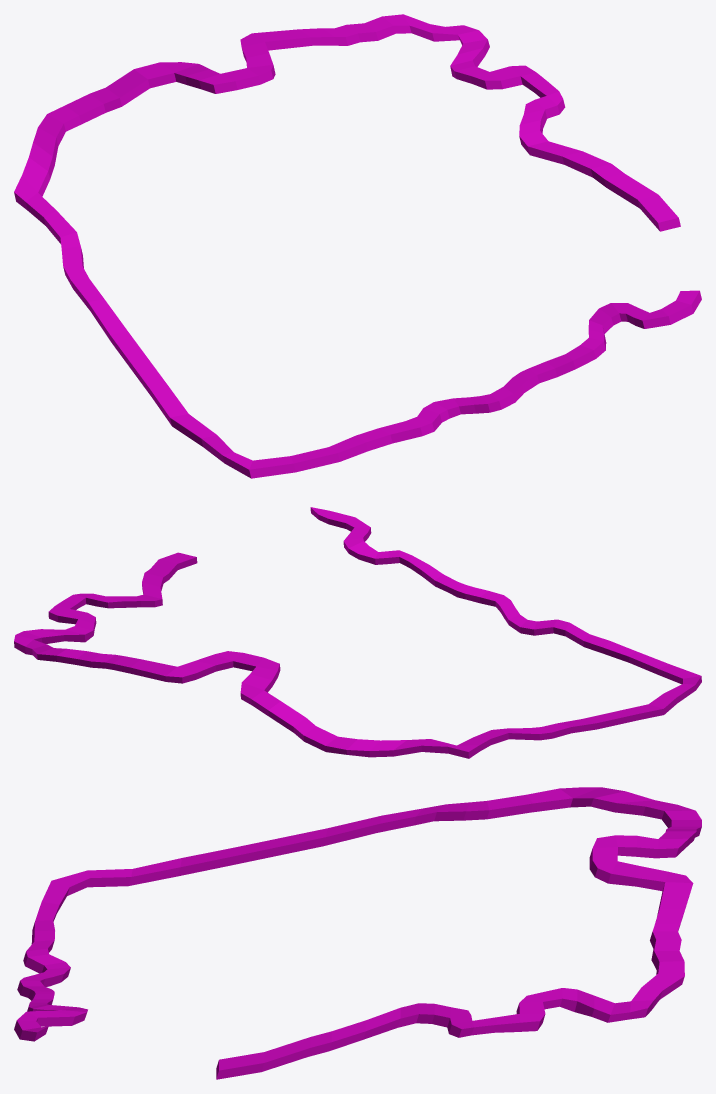
The model's file is roadtest.fbx.
3 views of the same model, one above another, from view 1: azimuth 30°, elevation 25°; view 2: azimuth 150°, elevation 25°; view 3: azimuth 270°, elevation 25° (orthographic). The views are drawn at different scales.
Parts seen in each view (by area): view 1: road.001; view 2: road.001; view 3: road.001.
Part boxes in pixels (x1=…): road.001: x1=14, y1=14, x2=701, y2=478; road.001: x1=14, y1=507, x2=701, y2=758; road.001: x1=14, y1=787, x2=701, y2=1079.
Size of the model in its own units: 414616 by 116169 by 435217.
